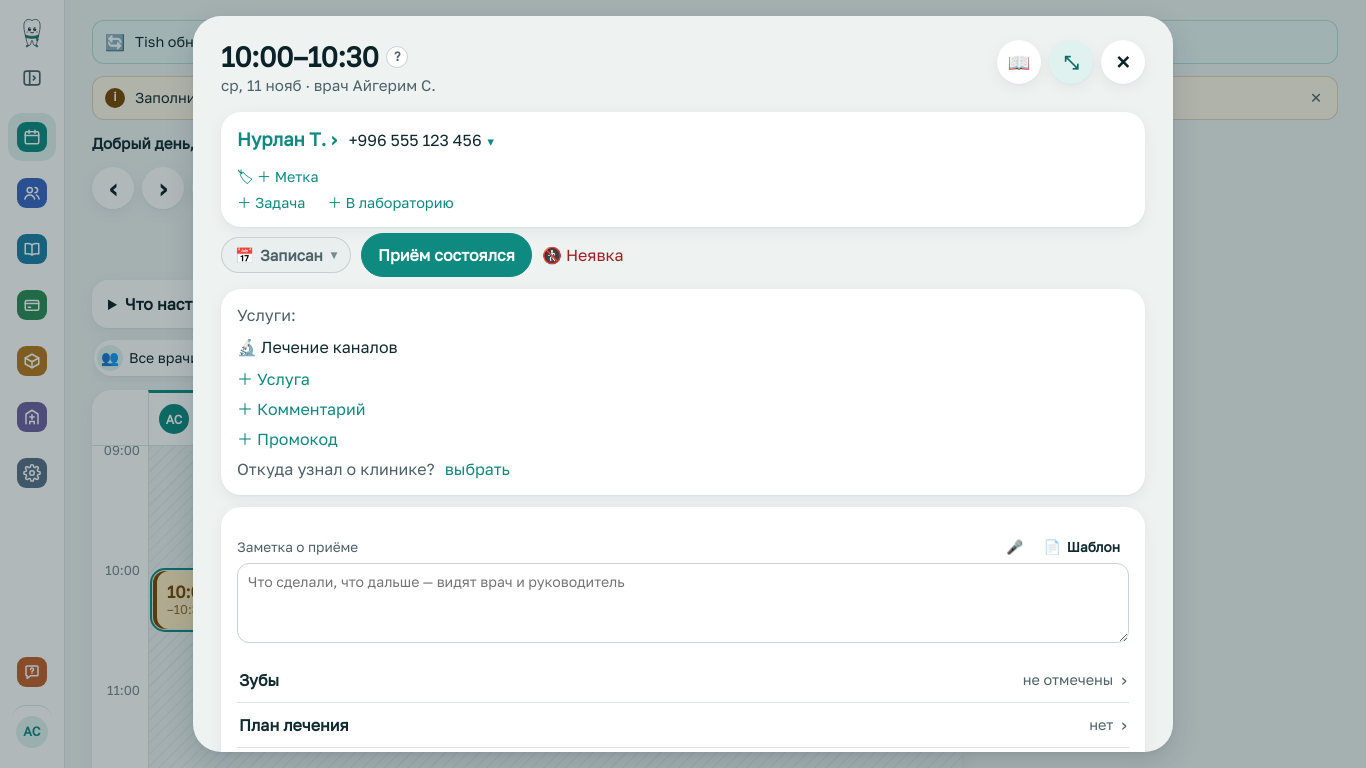
Scenario: карточка приёма: 📖 в шапке — тема по услуге, на языке пациента; только показ, без отправки
The image size is (1366, 768).
Earlier steps of the test are not shown.
(page scrolled)
Click the button named "Показать пациенту" at (1019, 62), box [997,40,1041,84]
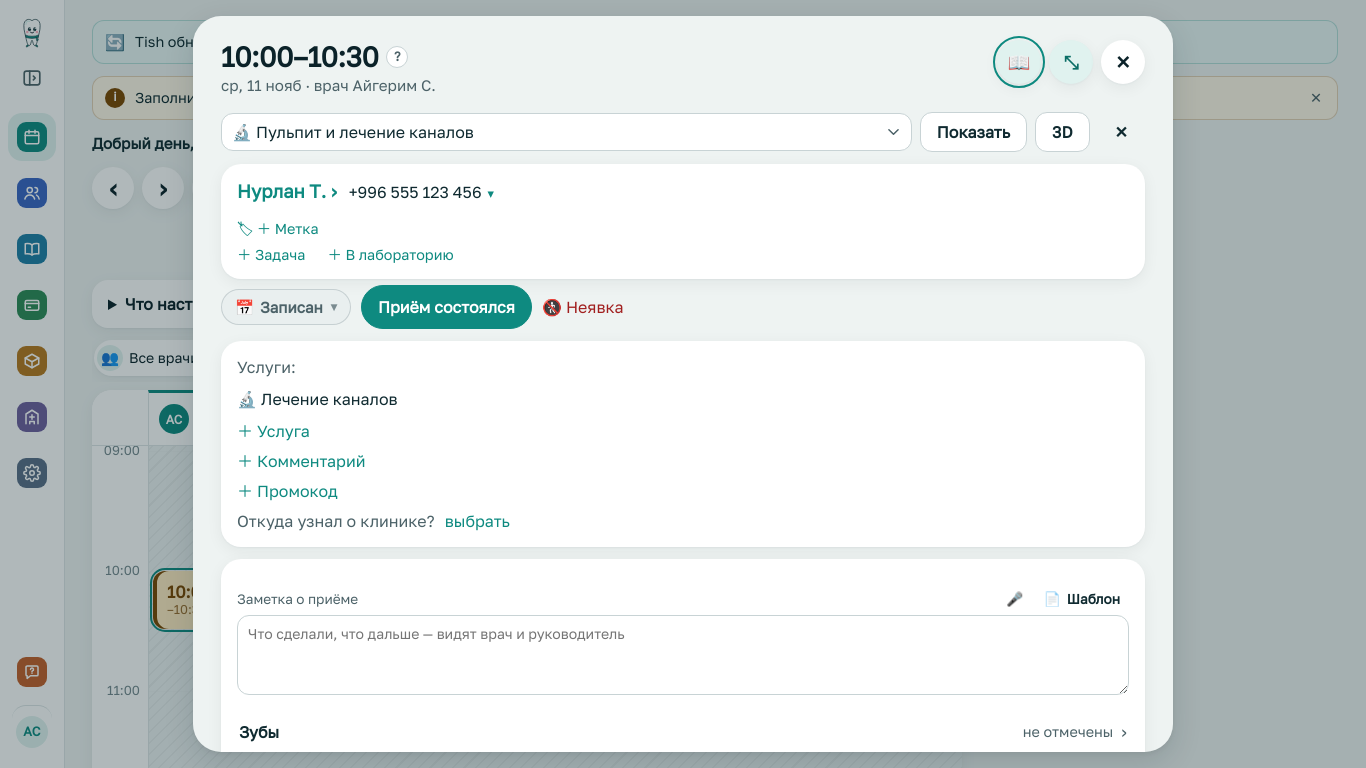
Expected: the dropdown named "Тема презентации" shows "Пульпит и лечение каналов", [221,113,912,151]
Click the button "Показать" at (973, 132), box [920,112,1027,152]
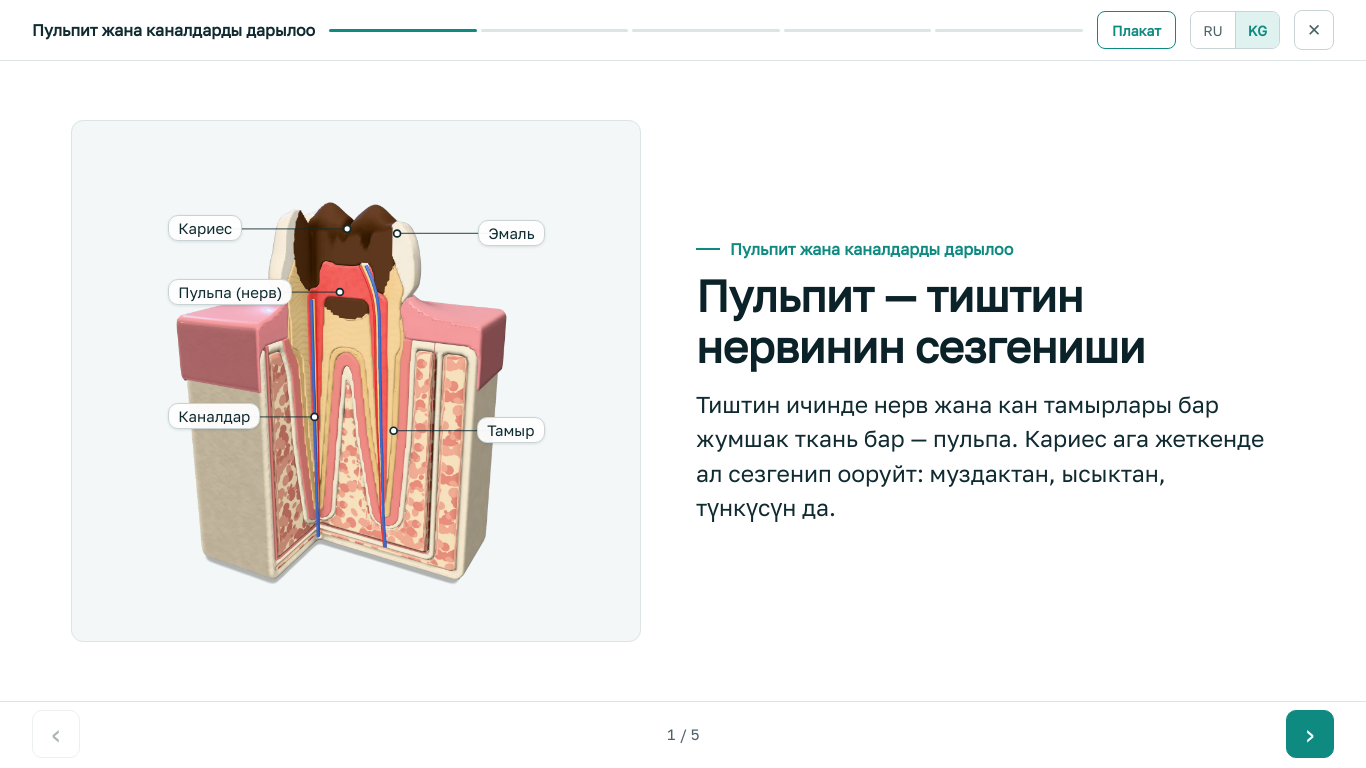
Expected: the heading "Пульпит — тиштин нервинин сезгениши" is shown, [696,269,1145,373]
Press End
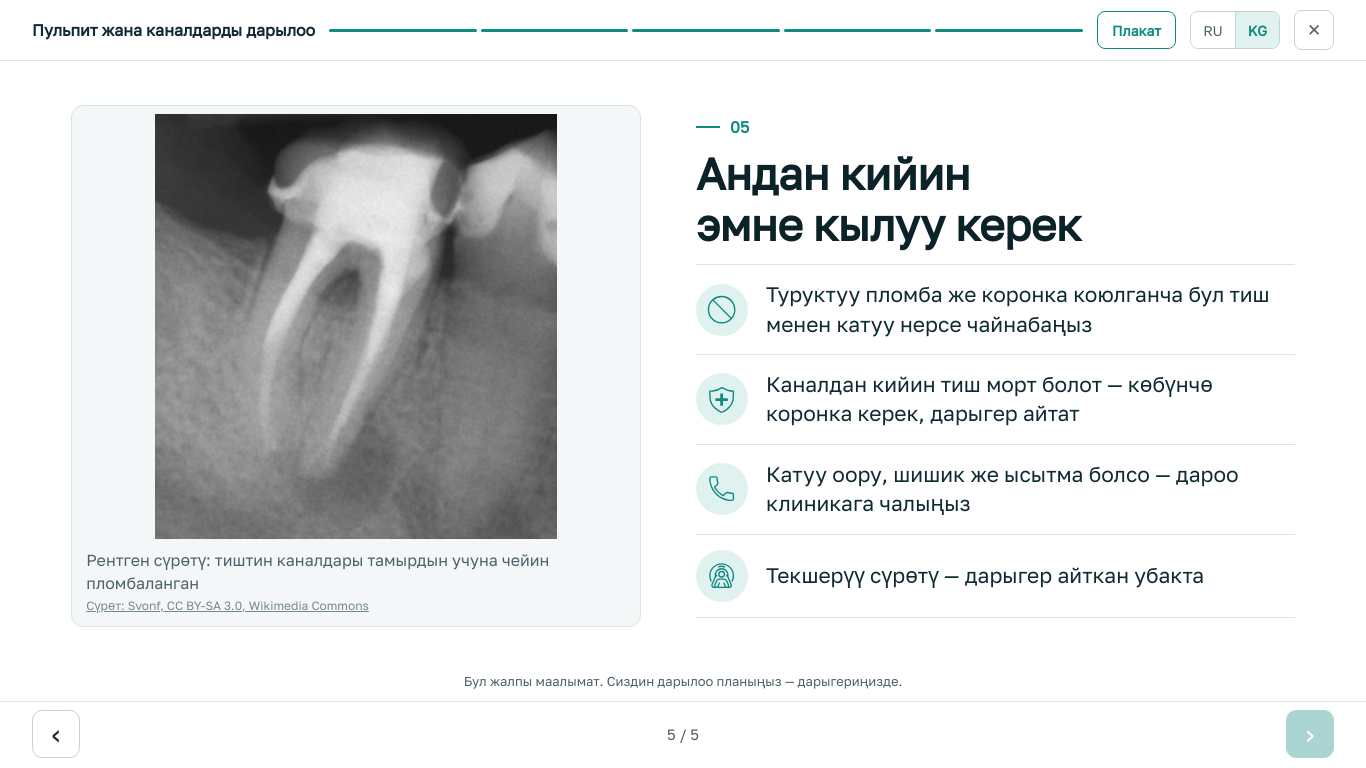
Click the button named "Жабуу" at (1314, 30), box [1294,10,1334,50]
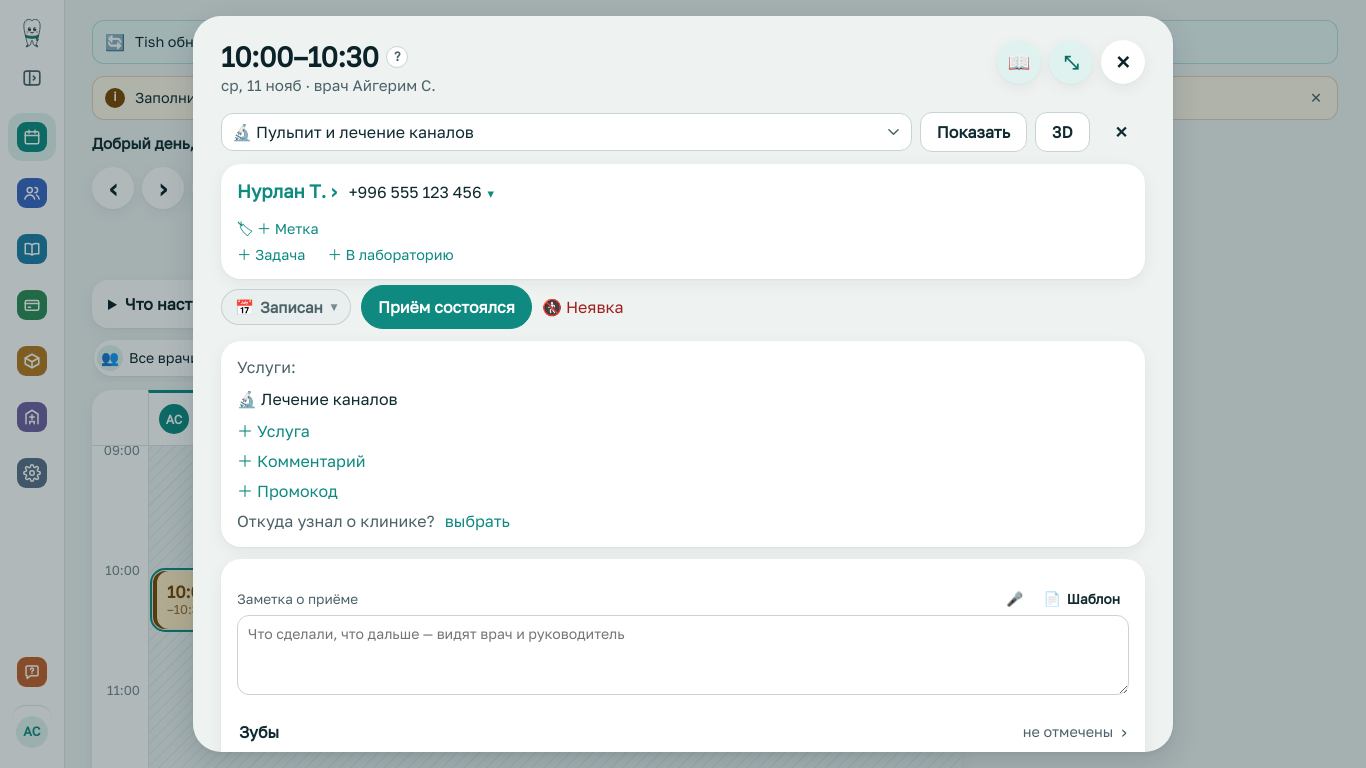
Expected: the dialog is gone
